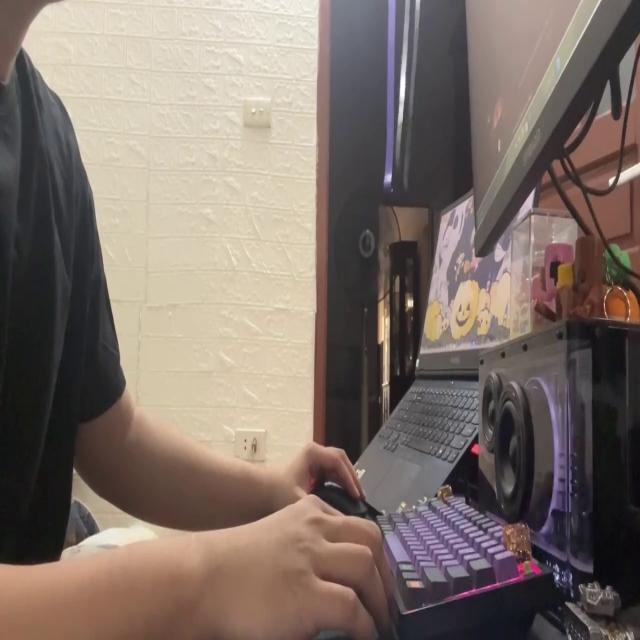laptop: (357, 174, 537, 505), (464, 0, 640, 275)
student: (0, 0, 396, 640)
